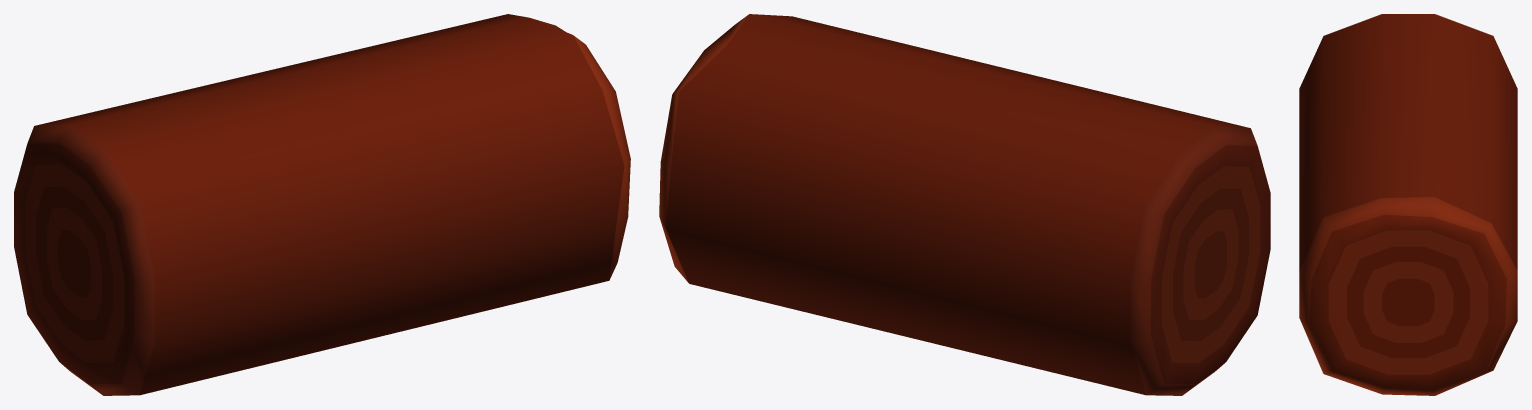
Rendered from Obstacle_Tree_03.fbx.
3 views of the same model, side by side, from view 1: azimuth 30°, elevation 25°; view 2: azimuth 150°, elevation 25°; view 3: azimuth 270°, elevation 25° (orthographic). The views are drawn at different scales.
Visible parts, largest first — view 1: Obstacle_Tree_03; view 2: Obstacle_Tree_03; view 3: Obstacle_Tree_03.
Boxes of the visible parts, <box> form: Obstacle_Tree_03: <box>14,14,630,395</box>; Obstacle_Tree_03: <box>659,14,1270,395</box>; Obstacle_Tree_03: <box>1299,14,1517,395</box>.
Size of the model in its own units: 0.4583 by 0.2176 by 0.2176.
